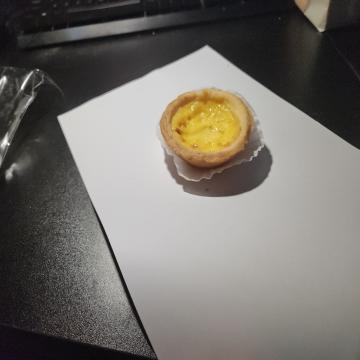EggTart: (160, 88, 253, 172)
